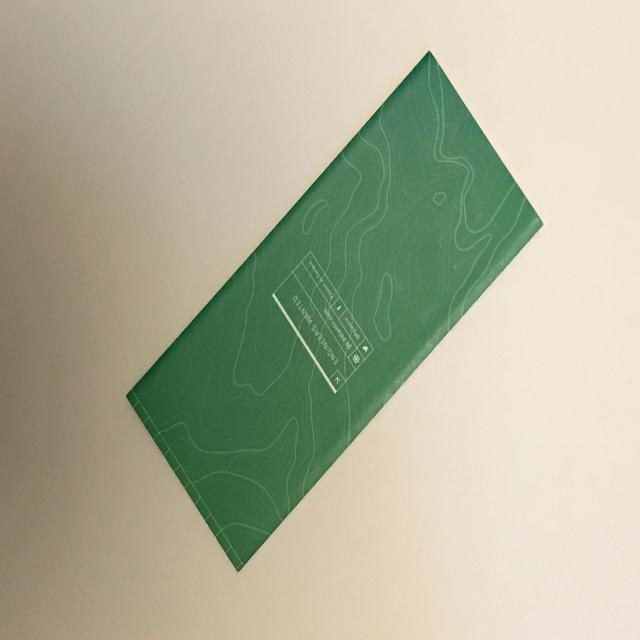paper: (123, 45, 546, 566)
